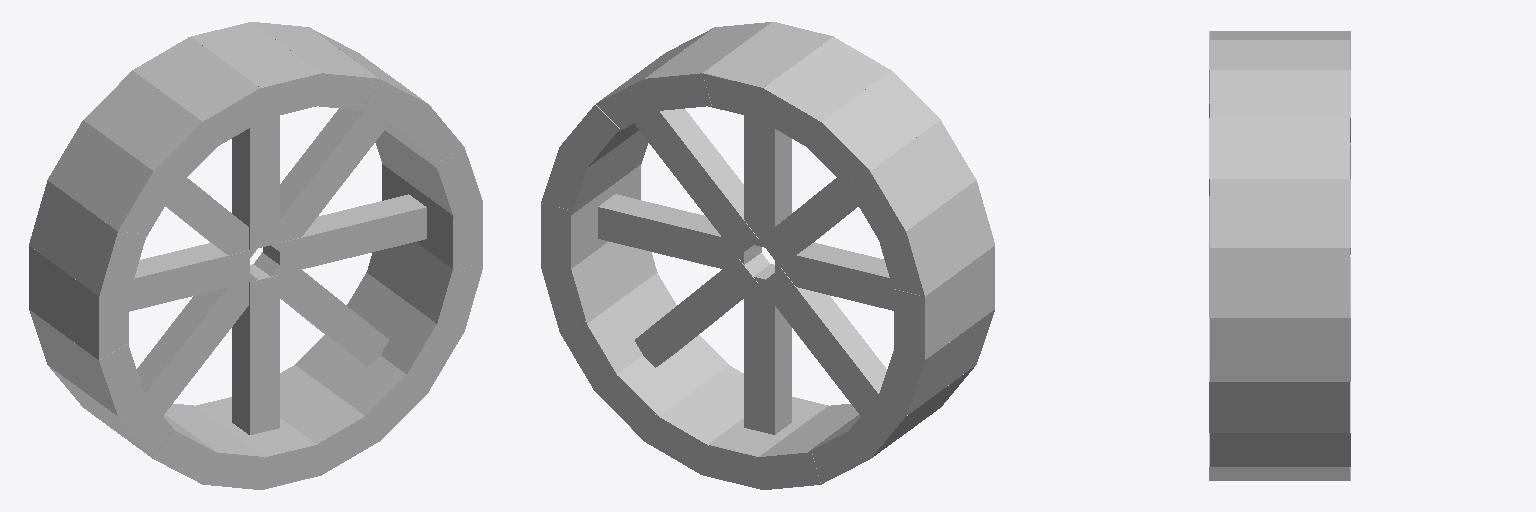
Rendered from flywheel.obj.
3 renders of one model, left to right at view 1: azimuth 30°, elevation 25°; view 2: azimuth 150°, elevation 25°; view 3: azimuth 270°, elevation 25°, orthographic.
Parts seen in each view (by area): view 1: fly_wheel; view 2: fly_wheel; view 3: fly_wheel.
Boxes of the visible parts, x1,y1,x2,y2 form: fly_wheel: [29, 22, 482, 489]; fly_wheel: [541, 22, 994, 489]; fly_wheel: [1209, 31, 1350, 480].
Bounding box in the file's own units: 0.7876 × 0.7876 × 0.2506.